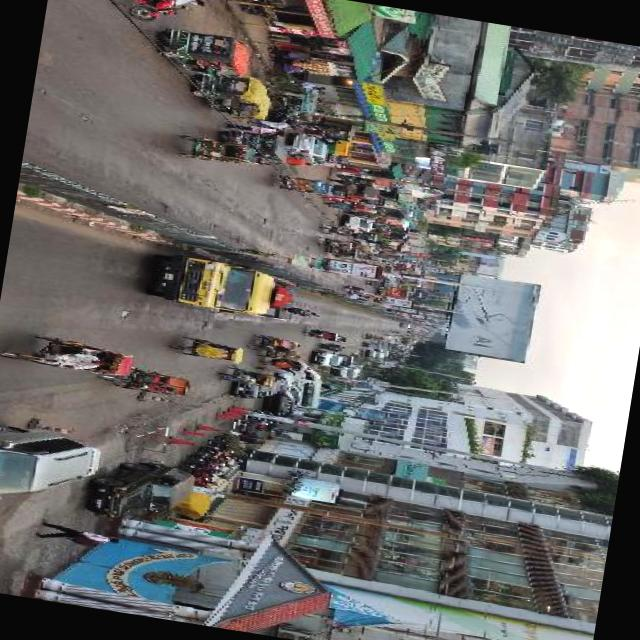bus: (380, 284, 411, 300), (402, 284, 418, 296)
car: (0, 422, 110, 510), (265, 376, 302, 426), (236, 372, 285, 402), (292, 132, 334, 166), (278, 369, 310, 408), (387, 264, 399, 278), (402, 323, 410, 328), (409, 324, 413, 328), (418, 325, 422, 328)
motorcycle: (0, 329, 140, 381), (161, 26, 255, 80), (184, 71, 278, 122), (102, 365, 196, 400), (219, 128, 293, 168), (182, 134, 258, 168), (173, 336, 247, 364), (125, 0, 183, 24), (218, 366, 274, 387), (253, 332, 300, 356), (273, 174, 322, 194), (215, 432, 244, 458), (192, 453, 222, 478), (272, 102, 303, 126), (174, 462, 205, 486), (233, 0, 272, 18), (208, 438, 236, 460), (204, 446, 228, 470), (265, 348, 302, 362), (242, 418, 266, 438), (323, 224, 356, 238), (249, 409, 269, 432), (330, 244, 360, 259), (288, 306, 322, 319), (321, 237, 354, 250), (256, 409, 274, 432), (308, 123, 332, 138), (310, 329, 340, 341), (358, 231, 378, 241), (370, 280, 390, 290), (347, 285, 368, 292), (357, 243, 375, 251), (364, 341, 382, 349), (368, 332, 386, 340), (332, 336, 349, 343), (366, 334, 382, 341), (411, 331, 417, 334), (412, 328, 418, 330)
truck: (150, 254, 307, 321), (92, 455, 198, 529), (281, 358, 328, 409), (313, 349, 357, 370), (343, 215, 375, 235), (335, 364, 364, 379), (368, 349, 386, 359), (404, 336, 420, 344), (377, 348, 390, 356), (351, 362, 367, 368), (391, 342, 402, 348), (402, 343, 410, 348)
